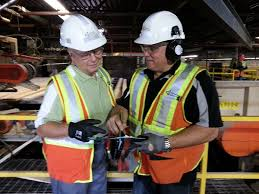Person_wearing_helmet: (61, 11, 104, 56), (138, 10, 181, 55)
